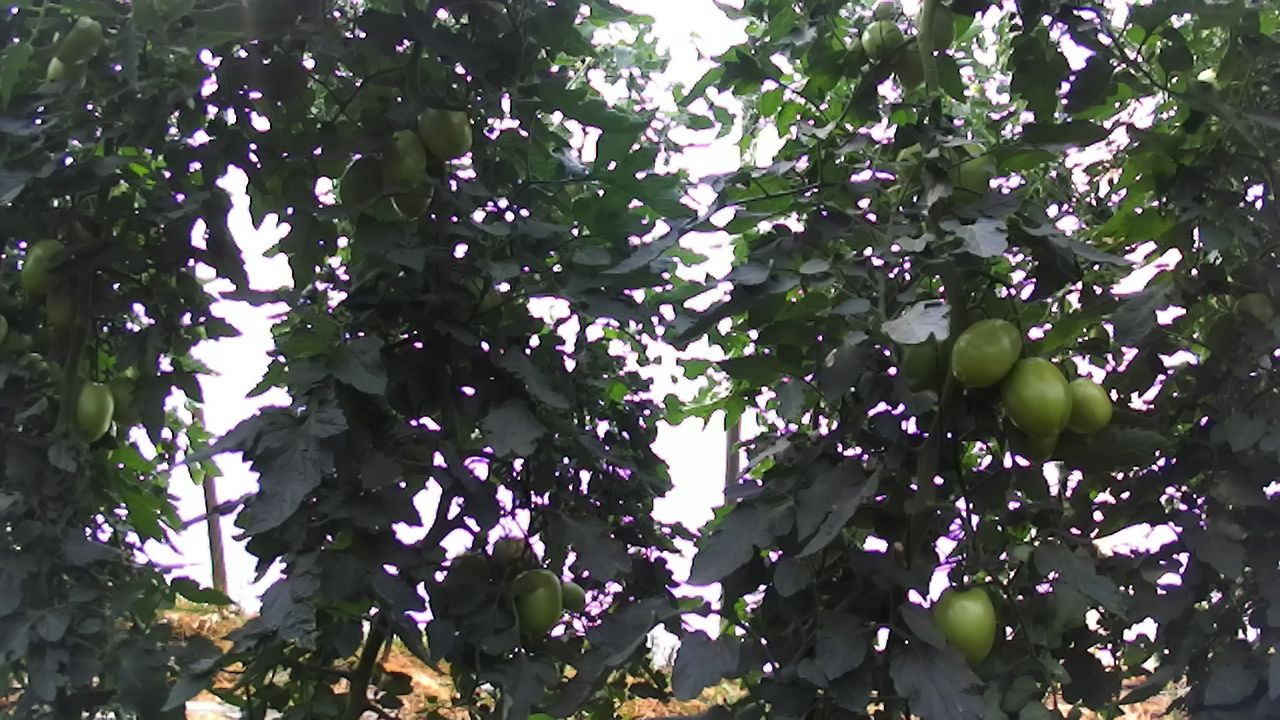tomato: (992, 348, 1076, 441), (942, 313, 1027, 395), (929, 579, 1000, 670), (411, 100, 477, 162), (16, 233, 76, 300), (508, 566, 563, 637), (1060, 375, 1116, 439), (69, 376, 117, 446), (52, 12, 108, 68)
